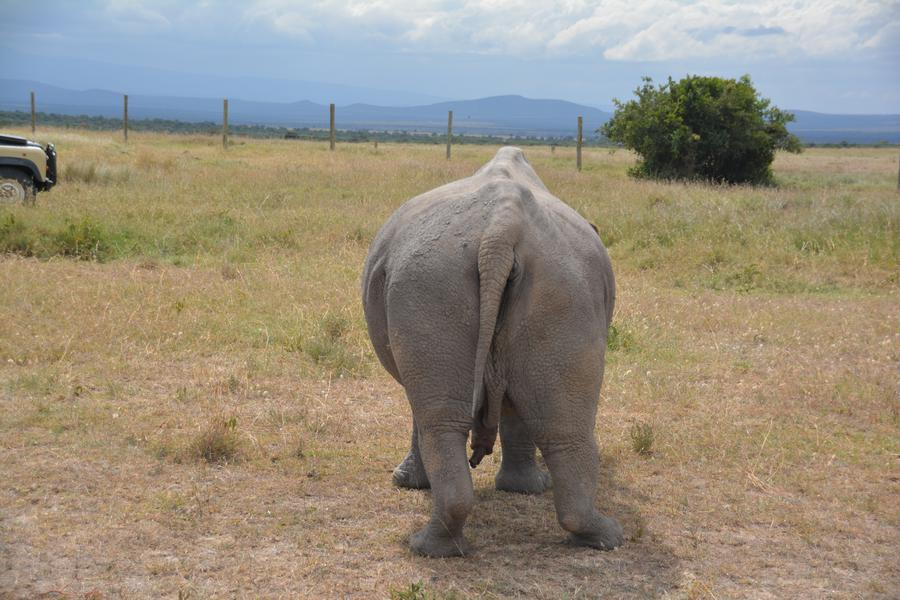rhino: (368, 134, 639, 543)
